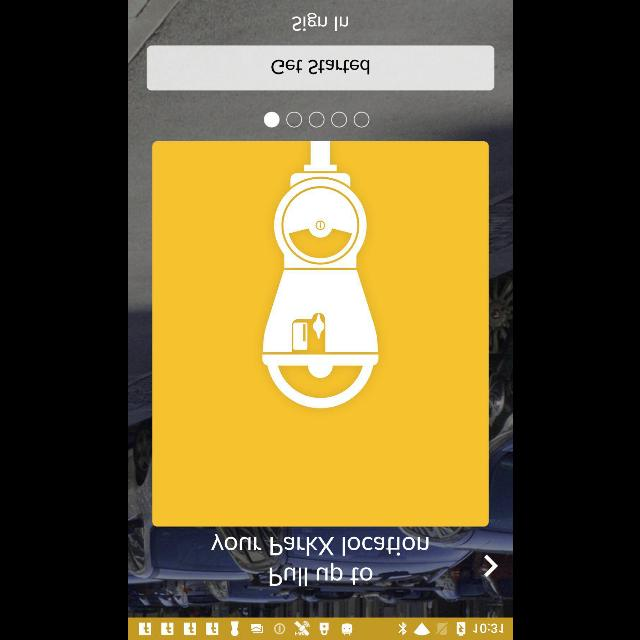backgroundimage: (128, 0, 512, 618)
icon: (484, 554, 498, 576)
image: (262, 142, 378, 408)
pageindicator: (262, 112, 370, 128)
text: (210, 534, 428, 586), (290, 13, 348, 31)
textbutton: (146, 46, 494, 90)
uppertaskbar: (128, 617, 512, 639)
